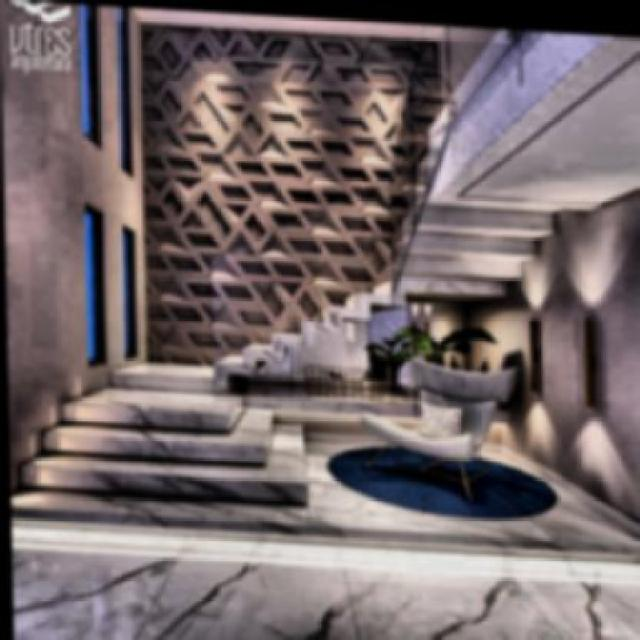stair: (16, 354, 316, 514)
